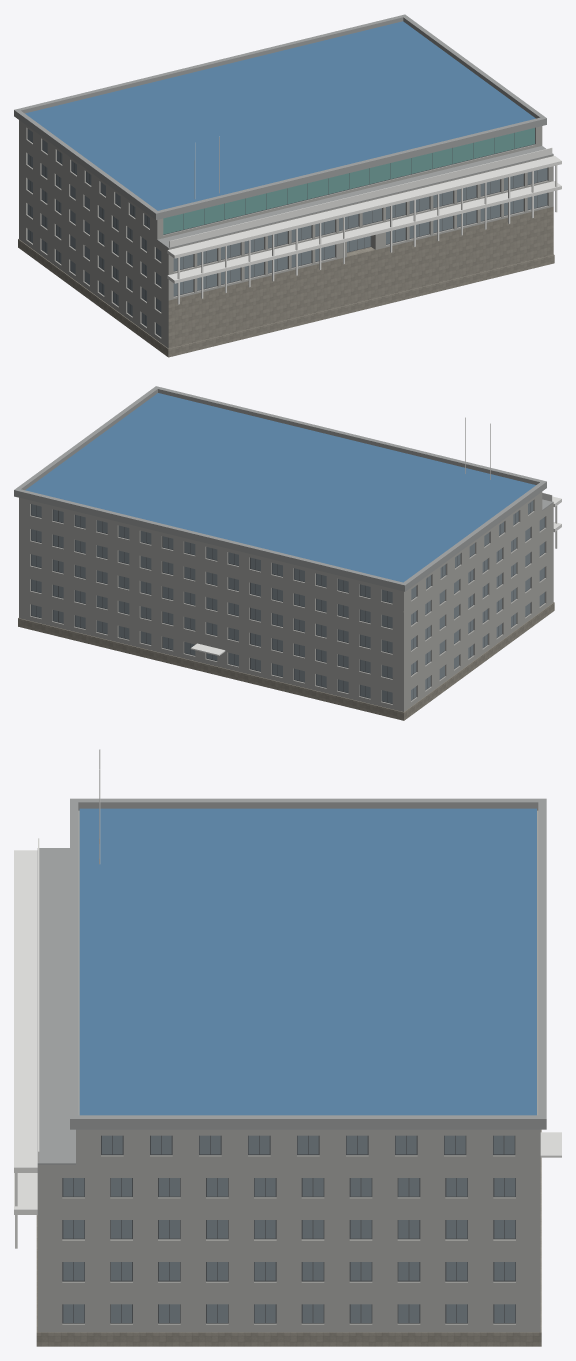
3 views of the same model, one above another, from view 1: azimuth 30°, elevation 25°; view 2: azimuth 150°, elevation 25°; view 3: azimuth 270°, elevation 25° (orthographic). The views are drawn at different scales.
Visible parts, largest first — view 1: mainHall__roof_blue, mainHall__stone_base, mainHall__wall_white, mainHall__fascia_grey, mainHall__glass_window, mainHall__slab_white, mainHall__glass_teal, mainHall__frame_dark, mainHall__rail_white; view 2: mainHall__wall_white, mainHall__roof_blue, mainHall__glass_window, mainHall__fascia_grey, mainHall__stone_base, mainHall__frame_dark, mainHall__slab_white; view 3: mainHall__roof_blue, mainHall__wall_white, mainHall__fascia_grey, mainHall__glass_window, mainHall__slab_white, mainHall__stone_base, mainHall__frame_dark, mainHall__rail_white.
Part boxes in pixels (x1,y1,x2,y2): mainHall__roof_blue: [25, 21, 535, 210]; mainHall__stone_base: [18, 206, 554, 357]; mainHall__wall_white: [19, 120, 553, 348]; mainHall__fascia_grey: [14, 14, 553, 248]; mainHall__glass_window: [27, 129, 547, 336]; mainHall__slab_white: [167, 156, 561, 304]; mainHall__glass_teal: [163, 128, 534, 234]; mainHall__frame_dark: [27, 127, 547, 336]; mainHall__rail_white: [169, 136, 552, 247]; mainHall__wall_white: [19, 492, 553, 711]; mainHall__roof_blue: [25, 393, 535, 582]; mainHall__glass_window: [31, 500, 544, 703]; mainHall__fascia_grey: [14, 386, 553, 591]; mainHall__stone_base: [18, 602, 554, 720]; mainHall__frame_dark: [31, 503, 544, 703]; mainHall__slab_white: [190, 496, 561, 655]; mainHall__roof_blue: [79, 808, 536, 1115]; mainHall__wall_white: [37, 810, 540, 1332]; mainHall__fascia_grey: [37, 798, 546, 1164]; mainHall__glass_window: [63, 1135, 515, 1322]; mainHall__slab_white: [14, 850, 561, 1248]; mainHall__stone_base: [36, 1129, 541, 1346]; mainHall__frame_dark: [62, 1135, 515, 1323]; mainHall__rail_white: [38, 749, 100, 1162].
Size of the model in its own units: 63.6 by 29.5 by 46.
Materials: 10 (1 with a texture image).
